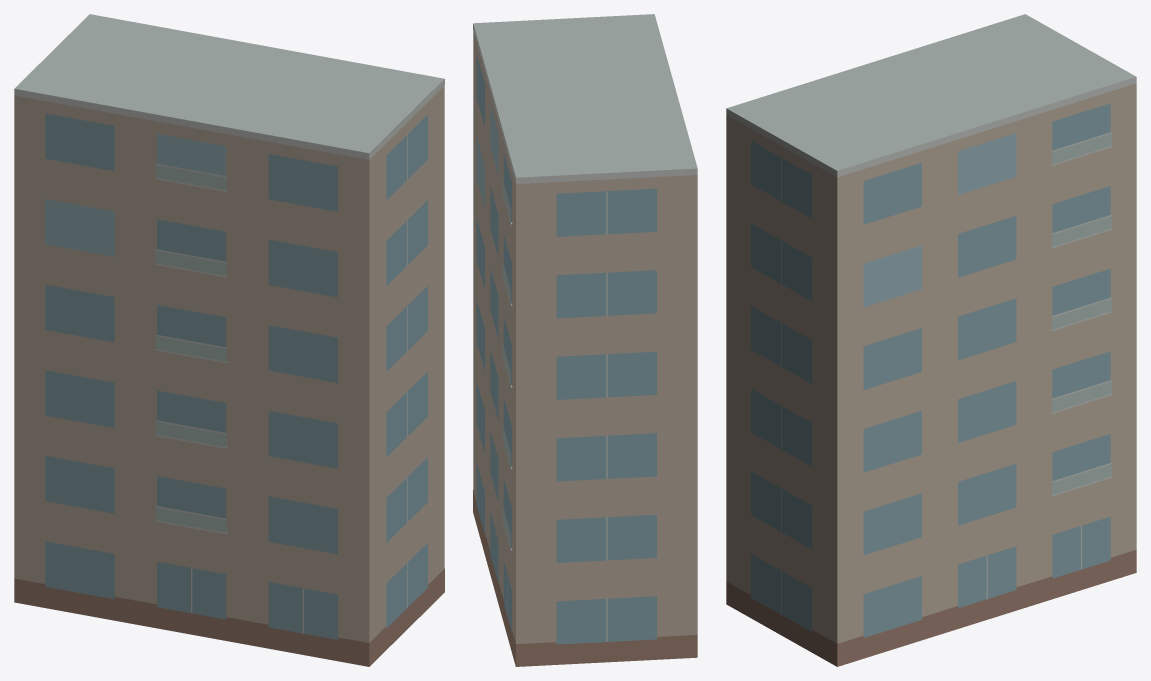
The model's file is survey-upis-32528449.glb.
The picture shows the model from 3 angles, left to right: view 1: azimuth 30°, elevation 25°; view 2: azimuth 150°, elevation 25°; view 3: azimuth 270°, elevation 25°; orthographic projection. The views are drawn at different scales.
Parts seen in each view (by area): view 1: survey-upis-32528449.tmp; view 2: survey-upis-32528449.tmp; view 3: survey-upis-32528449.tmp.
Part boxes in pixels (x1,y1,x2,y2): survey-upis-32528449.tmp: [14, 14, 444, 666]; survey-upis-32528449.tmp: [473, 14, 697, 666]; survey-upis-32528449.tmp: [726, 14, 1136, 666].
Size of the model in its own units: 12.63 by 18.6 by 13.96.
